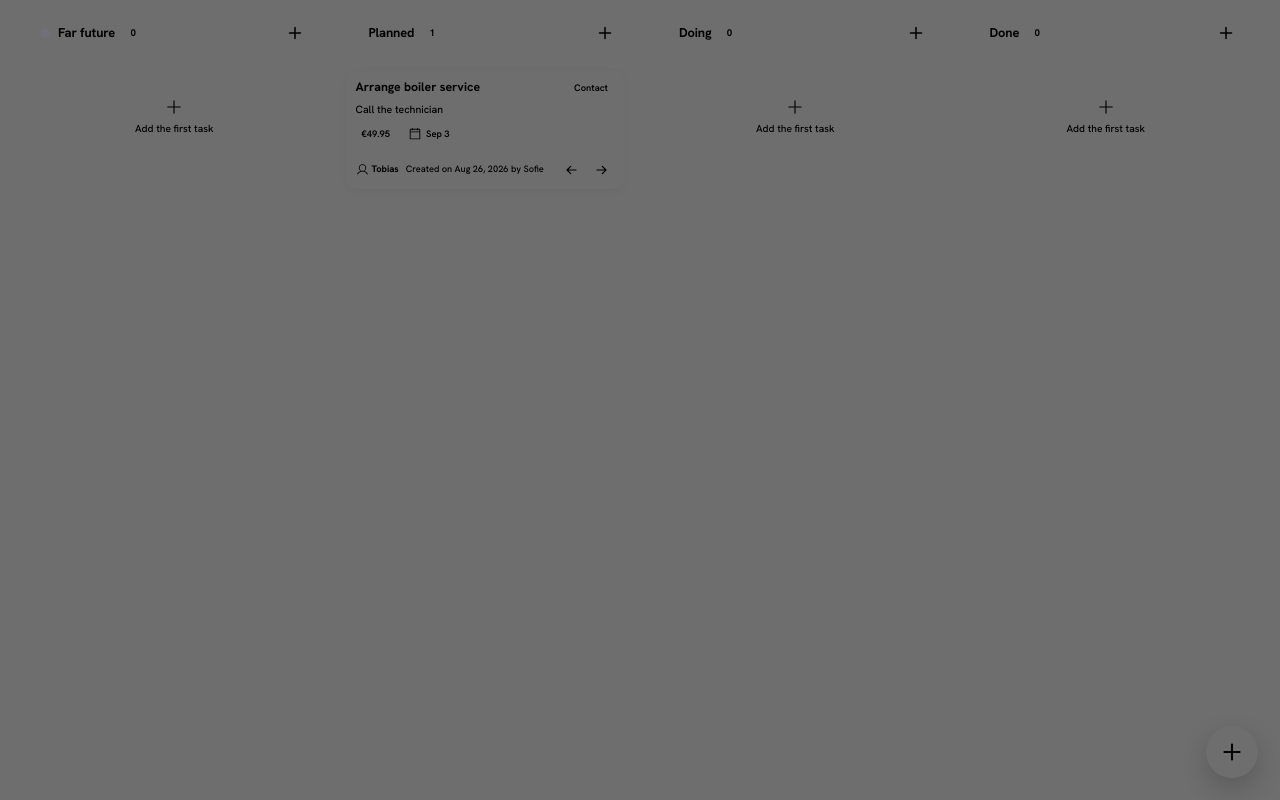
it: FamilyTasksPage › opens the task panel when the card is clicked
Click the element named "Open Arrange boiler service" at (485, 130), box x1=346 y1=71 x2=624 y2=189
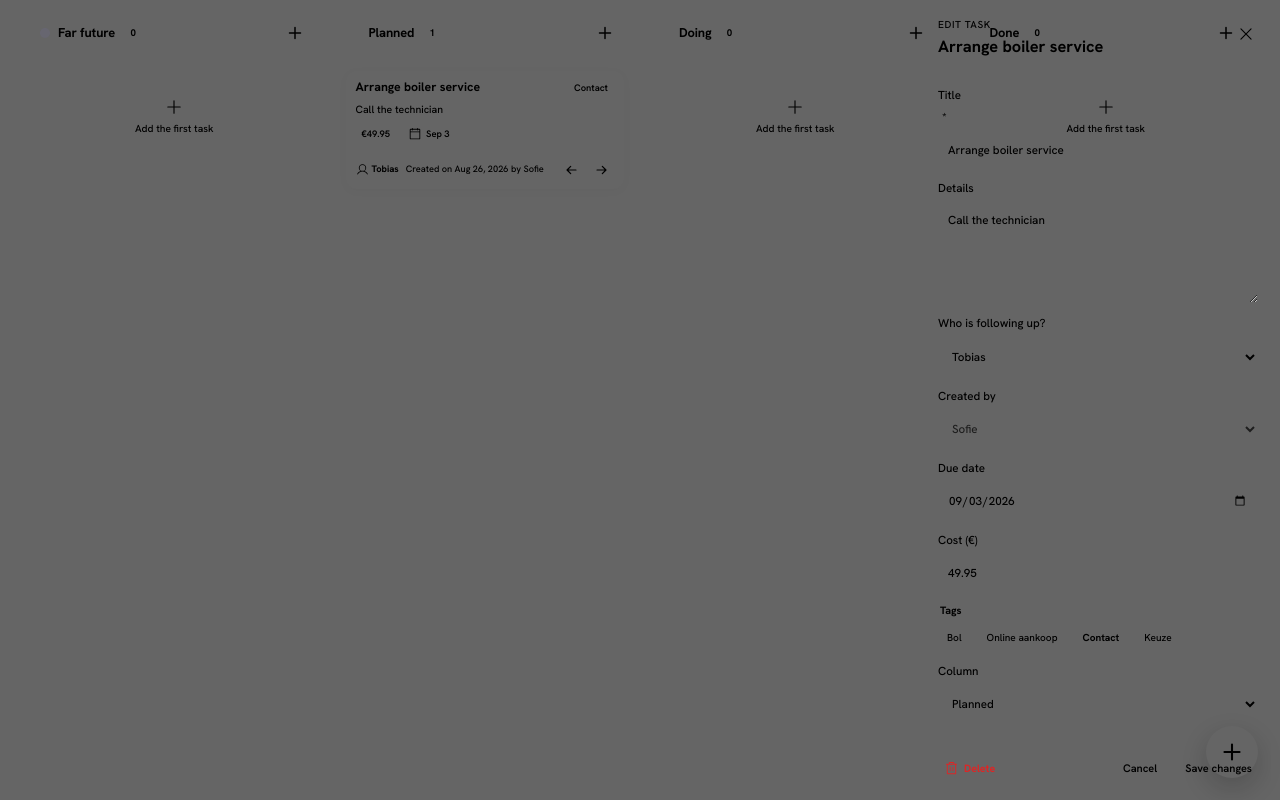
Now the element named "family task panel" is shown, box x1=920 y1=0 x2=1279 y2=799
